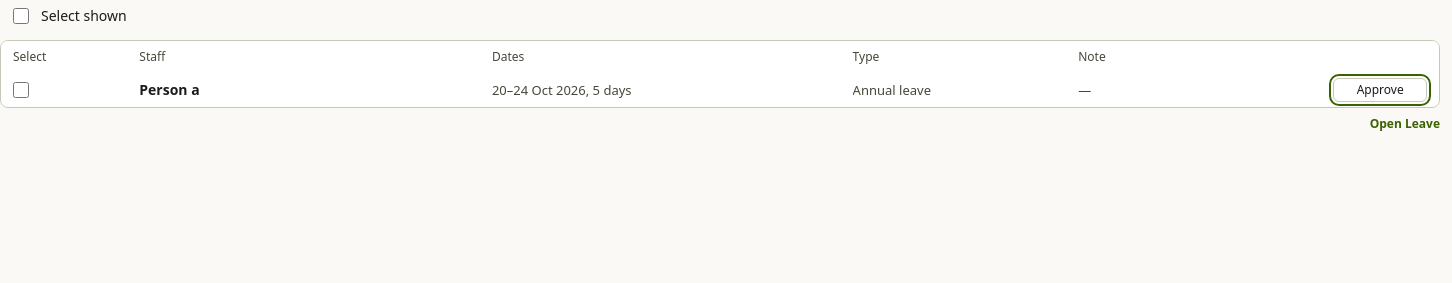
Test case: QuickGroup — one tap › keeps the row on a refusal, says the server's words in a line under it, and leaves focus on the button
Step 1. Click the button with aria-label "Approve leave: Person a" → (1380, 90), box [1333,78,1427,102]
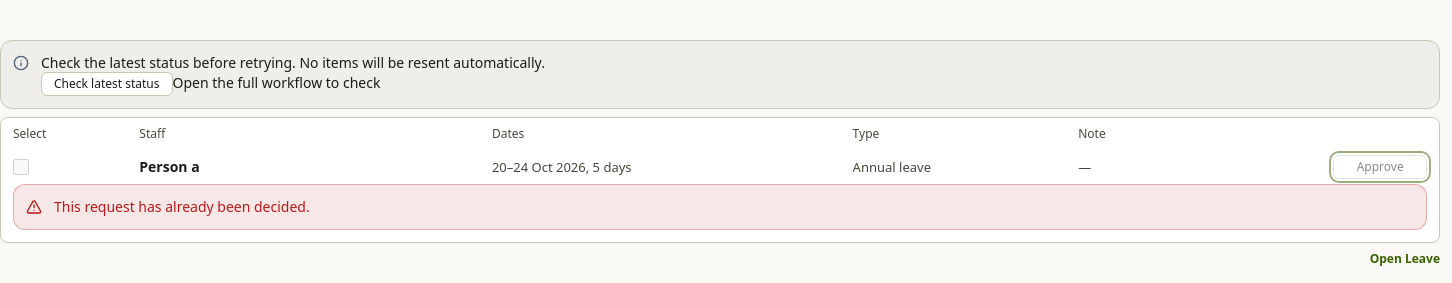
expect the button with aria-label "Approve leave: Person a" reads "Approve": met, box [1333,155,1427,179]
expect the message "This request has already been decided." is shown: met, box [13,184,1427,230]
